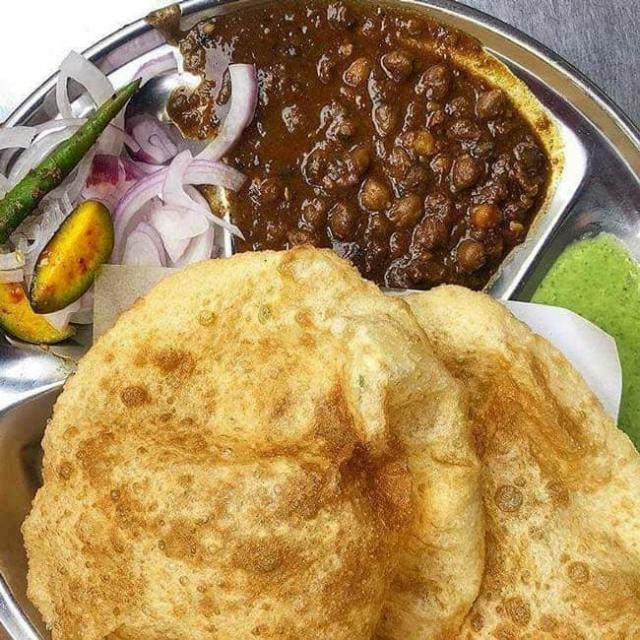Bhatura: (22, 247, 640, 640)
Chole: (176, 0, 553, 289)
